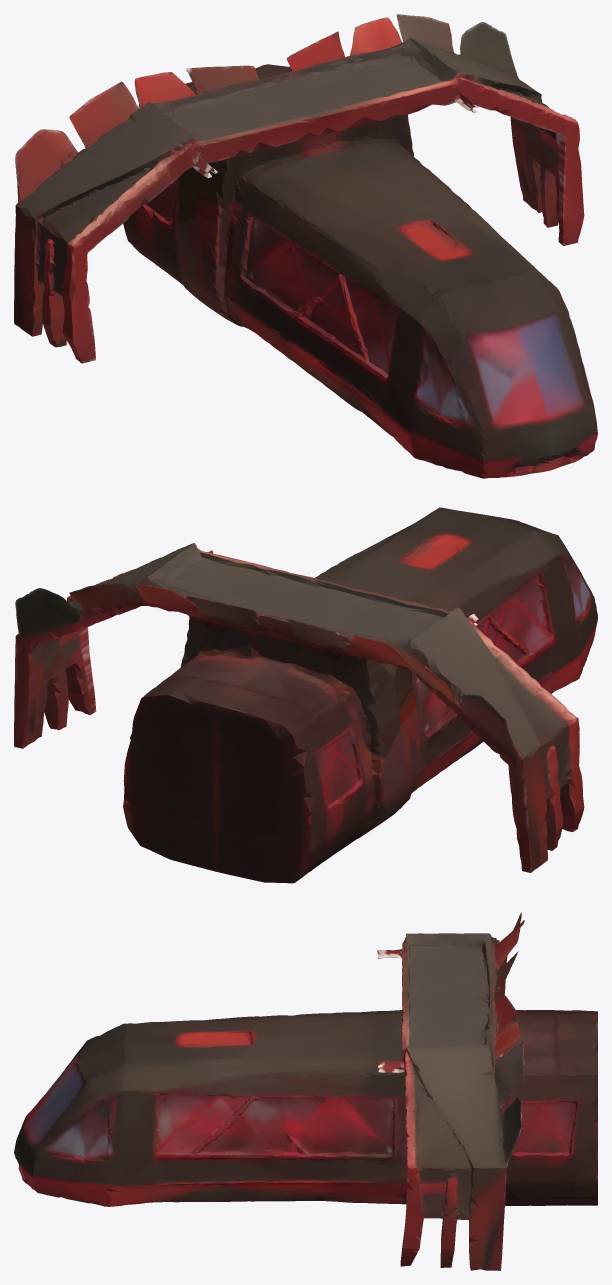
File: rodin_train2.glb
3 renders of one model, top to bottom at view 1: azimuth 30°, elevation 25°; view 2: azimuth 150°, elevation 25°; view 3: azimuth 270°, elevation 25°, orthographic. The views are drawn at different scales.
Parts seen in each view (by area): view 1: model; view 2: model; view 3: model.
Part boxes in pixels (<box>): model: <box>14,14,597,478</box>; model: <box>14,507,597,883</box>; model: <box>14,912,597,1270</box>.
Size of the model in its own units: 1.69 by 0.7143 by 1.9.
1 material, 1 textured.
